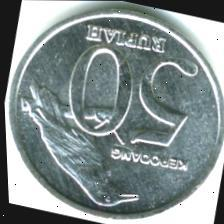coin_50_1999: (10, 7, 224, 219)
